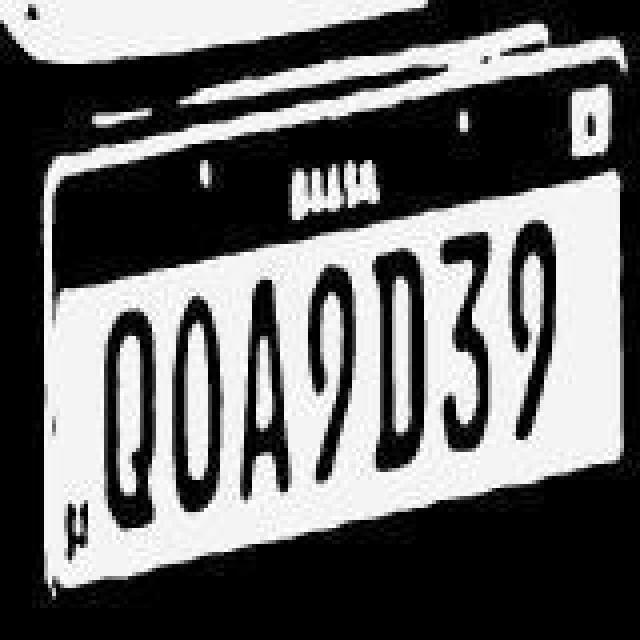3: (436, 232, 492, 456)
9: (504, 216, 560, 440), (306, 262, 358, 490)
A: (238, 278, 290, 506)
D: (370, 248, 430, 472)
O: (172, 294, 228, 514)
Q: (102, 308, 154, 532)
